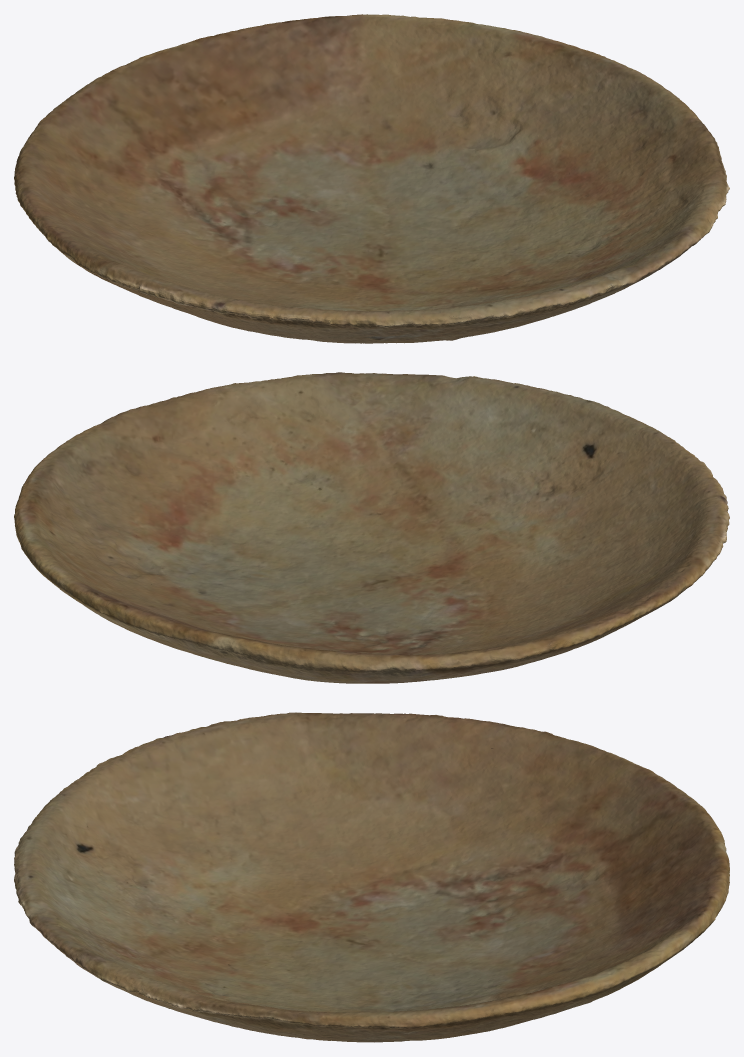
The picture shows the model from 3 angles, top to bottom: view 1: azimuth 30°, elevation 25°; view 2: azimuth 150°, elevation 25°; view 3: azimuth 270°, elevation 25°; orthographic projection. The views are drawn at different scales.
Parts seen in each view (by area): view 1: Mesh_0.006; view 2: Mesh_0.006; view 3: Mesh_0.006.
Boxes of the visible parts, x1,y1,x2,y2 form: Mesh_0.006: (14, 14, 729, 343); Mesh_0.006: (14, 372, 729, 683); Mesh_0.006: (14, 712, 729, 1042).
Size of the model in its own units: 0.2388 by 0.0422 by 0.2349.
1 material, 1 textured.
